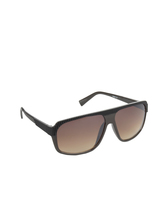glasses: (14, 95, 154, 155)
